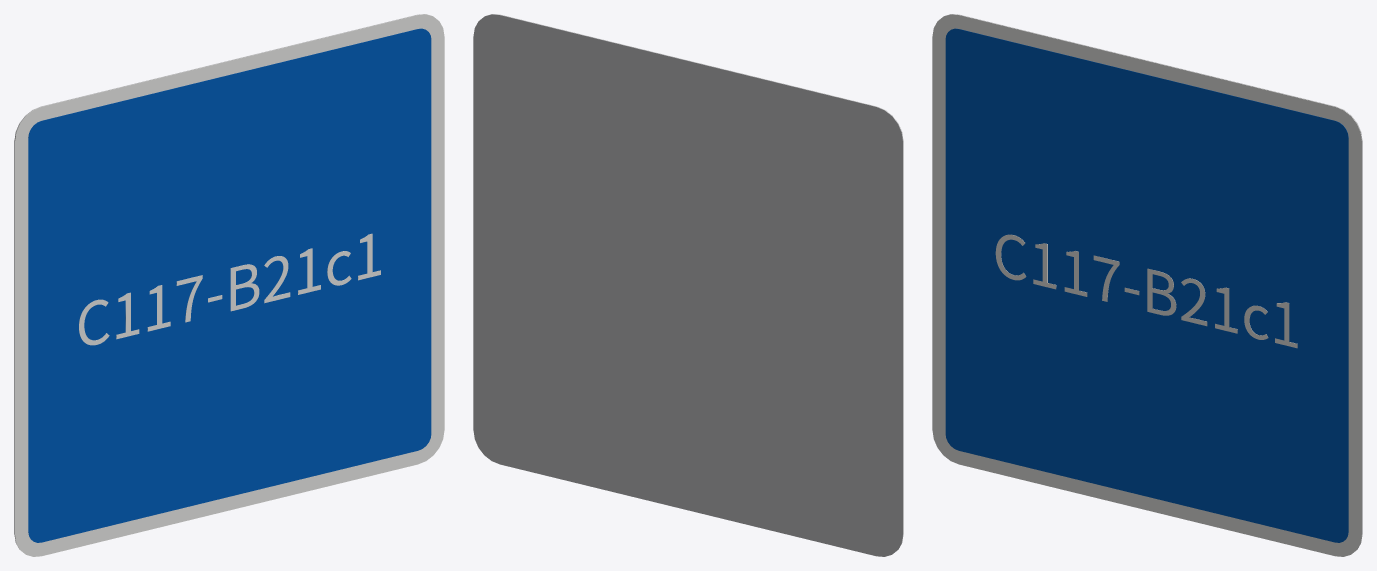
3 views of the same model, side by side, from view 1: azimuth 30°, elevation 25°; view 2: azimuth 150°, elevation 25°; view 3: azimuth 330°, elevation 25° (orthographic).
Parts seen in each view (by area): view 1: C117-B21c1_fond01, C117-B21c1_cadre00, C117-B21c1_txt02, C117-B21c1_dos; view 2: C117-B21c1_dos, C117-B21c1_cadre00; view 3: C117-B21c1_fond01, C117-B21c1_cadre00, C117-B21c1_txt02, C117-B21c1_dos.
Part boxes in pixels (<box>): C117-B21c1_fond01: <box>28,28,431,542</box>; C117-B21c1_cadre00: <box>15,14,444,556</box>; C117-B21c1_txt02: <box>79,233,380,345</box>; C117-B21c1_dos: <box>14,14,432,549</box>; C117-B21c1_dos: <box>473,14,903,556</box>; C117-B21c1_cadre00: <box>493,14,903,547</box>; C117-B21c1_fond01: <box>945,28,1348,542</box>; C117-B21c1_cadre00: <box>932,14,1361,556</box>; C117-B21c1_txt02: <box>995,234,1297,348</box>; C117-B21c1_dos: <box>944,14,1362,549</box>.
Size of the model in its own units: 0.65 by 0.65 by 0.0025.
